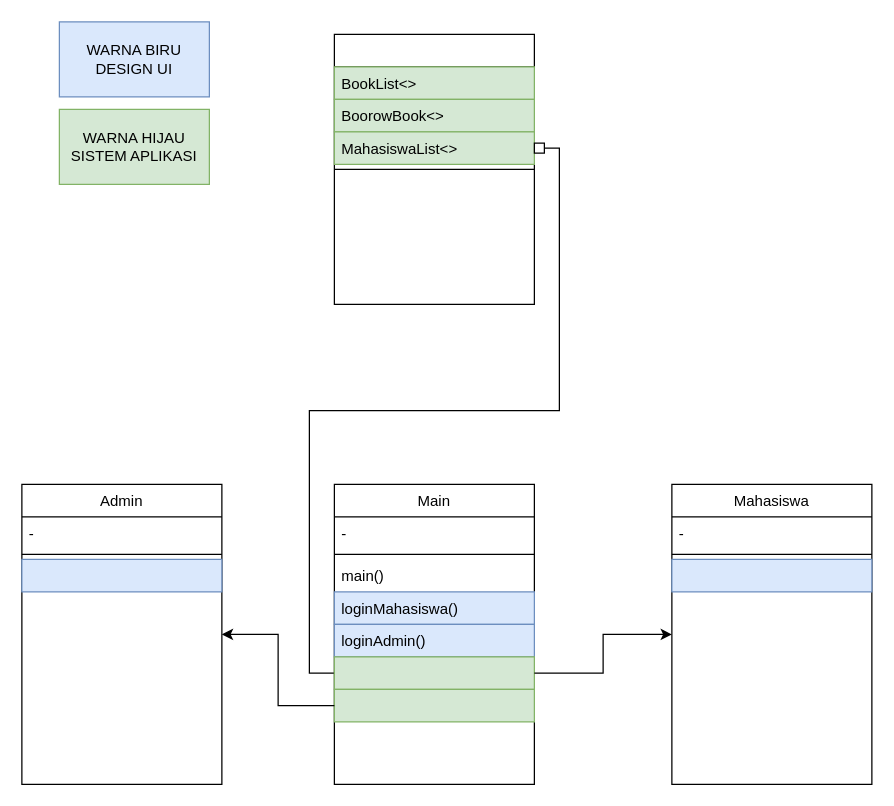
The diagram is 894 pixels wide and 806 high, and some of its shapes have lost their labels. Here are the shapes that lost their labels. From the top down, the box of each, then its label:
(333, 33, 534, 304): Database
(21, 558, 222, 592): tampilanAdmin()
(671, 558, 872, 592): tampilanMahasiswa()
(333, 656, 534, 689): validasiMahasiswa()
(333, 688, 534, 722): validasiAdmin()
